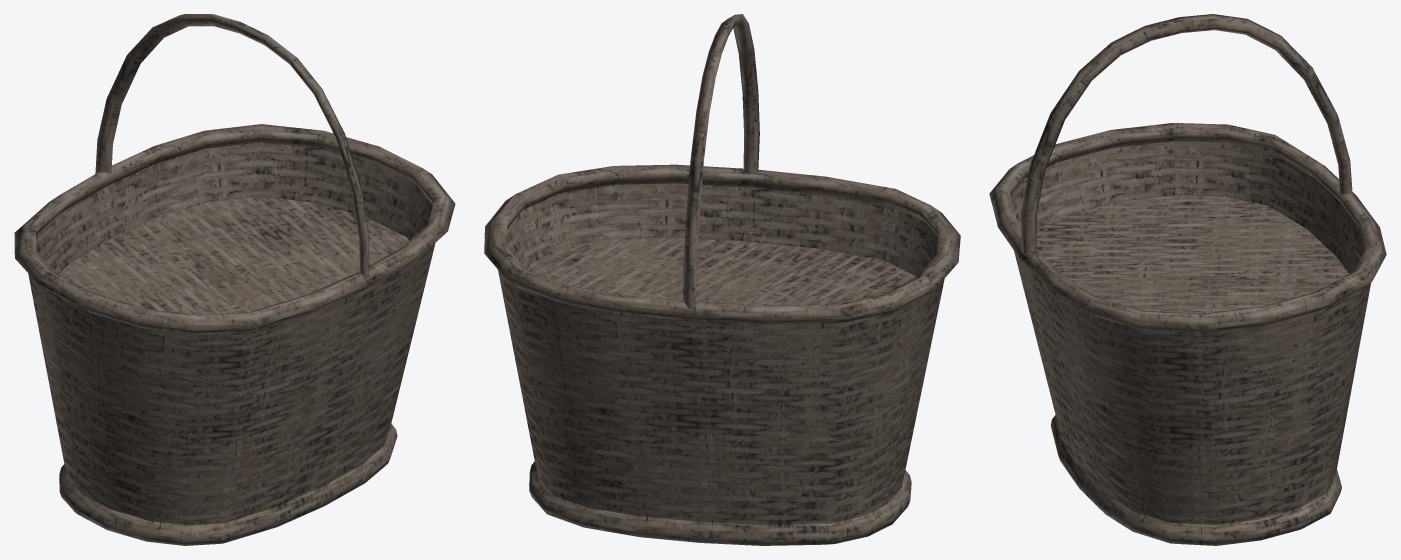
Rendered from Wicker_Basket_01_7.glb.
3 renders of one model, left to right at view 1: azimuth 30°, elevation 25°; view 2: azimuth 150°, elevation 25°; view 3: azimuth 270°, elevation 25°, orthographic.
Parts seen in each view (by area): view 1: Wicker_Basket_01.019; view 2: Wicker_Basket_01.019; view 3: Wicker_Basket_01.019.
Boxes of the visible parts, x1,y1,x2,y2 form: Wicker_Basket_01.019: [14, 14, 455, 545]; Wicker_Basket_01.019: [484, 14, 960, 545]; Wicker_Basket_01.019: [989, 14, 1386, 545].
Bounding box in the file's own units: 0.7131 × 0.7651 × 0.6017.
Materials: 1 (1 with a texture image).
